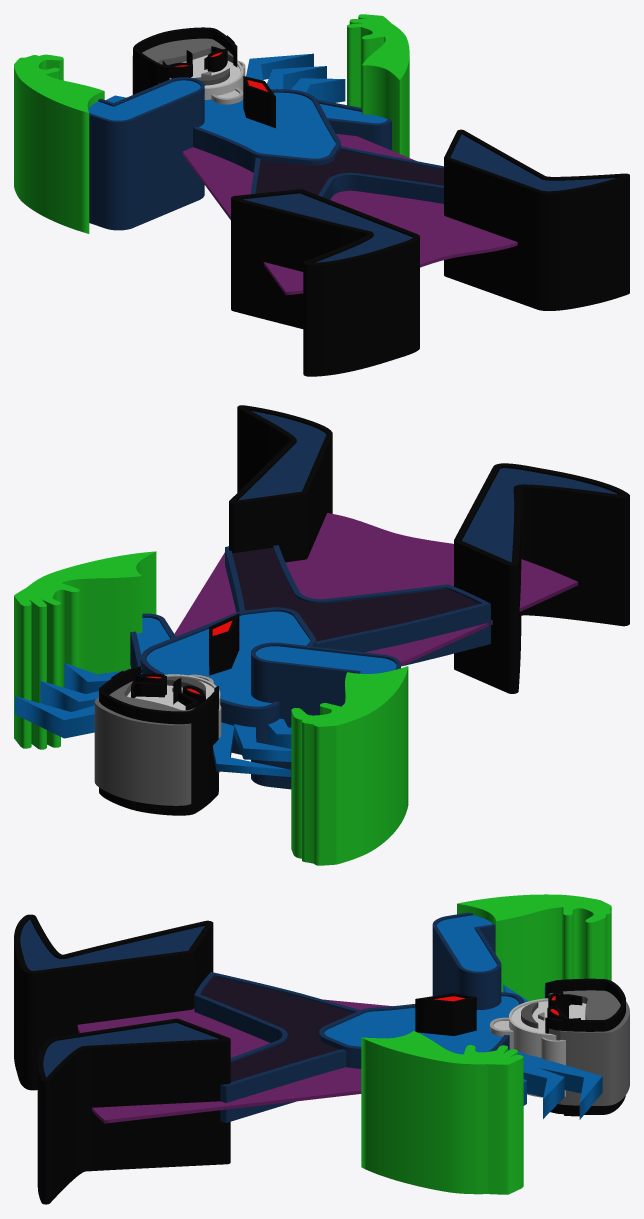
Rendered from emoji_u1f9b9_200d_2642.glb.
3 views of the same model, one above another, from view 1: azimuth 30°, elevation 25°; view 2: azimuth 150°, elevation 25°; view 3: azimuth 270°, elevation 25° (orthographic). The views are drawn at different scales.
Visible parts, largest first — view 1: emoji_u1f9b9_200d_2642; view 2: emoji_u1f9b9_200d_2642; view 3: emoji_u1f9b9_200d_2642.
Boxes of the visible parts, left/top/right/bottom form: emoji_u1f9b9_200d_2642: left=14, top=14, right=629, bottom=376; emoji_u1f9b9_200d_2642: left=14, top=405, right=629, bottom=865; emoji_u1f9b9_200d_2642: left=14, top=894, right=629, bottom=1204.
Bounding box in the file's own units: 0.0238 × 0.0078 × 0.0335.
